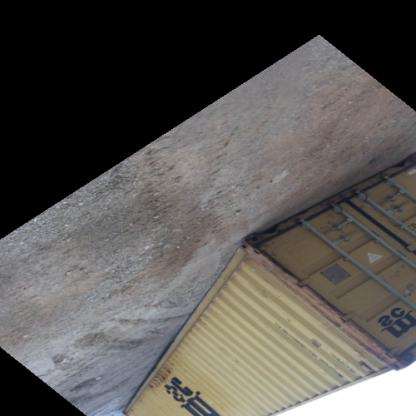Damage: (347, 324, 404, 370), (248, 240, 294, 282), (150, 362, 176, 400), (310, 338, 322, 352)
